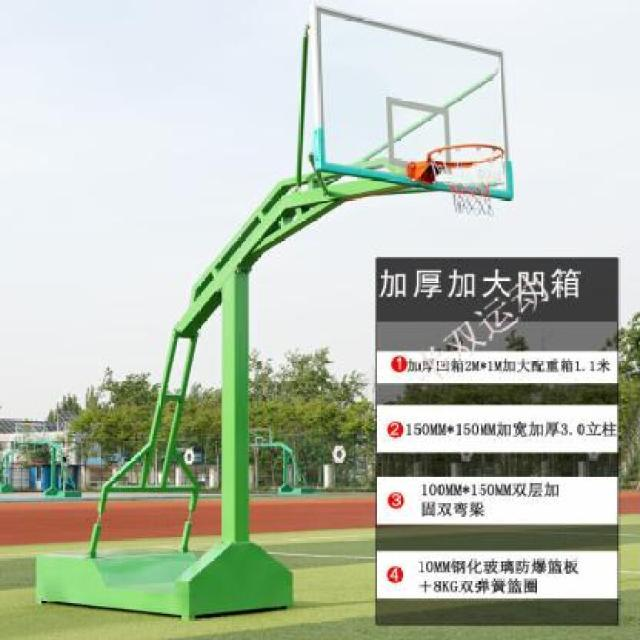rim: (426, 140, 508, 216)
